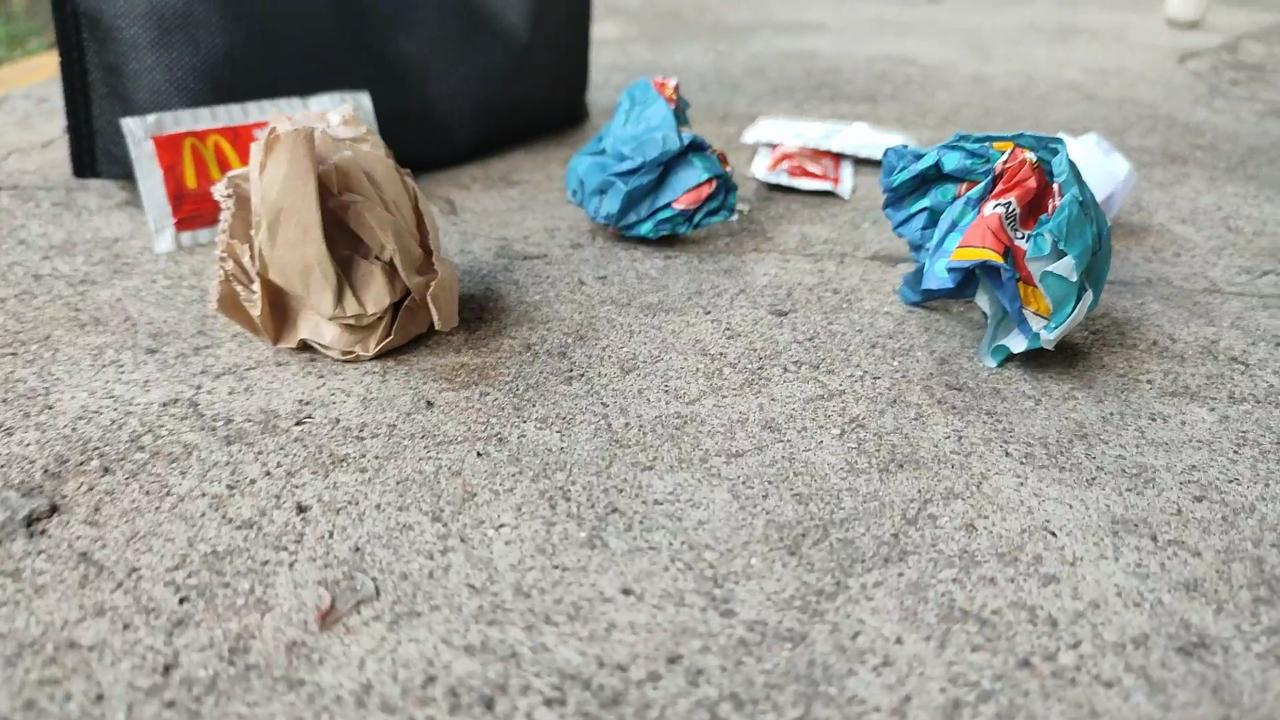paper: (882, 132, 1127, 365), (216, 128, 458, 360), (565, 77, 737, 239)
